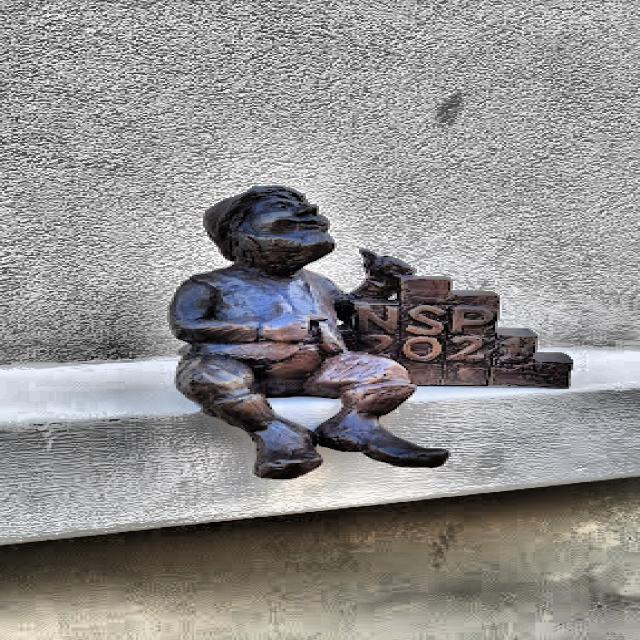Statyslaw: (171, 186, 571, 478)
